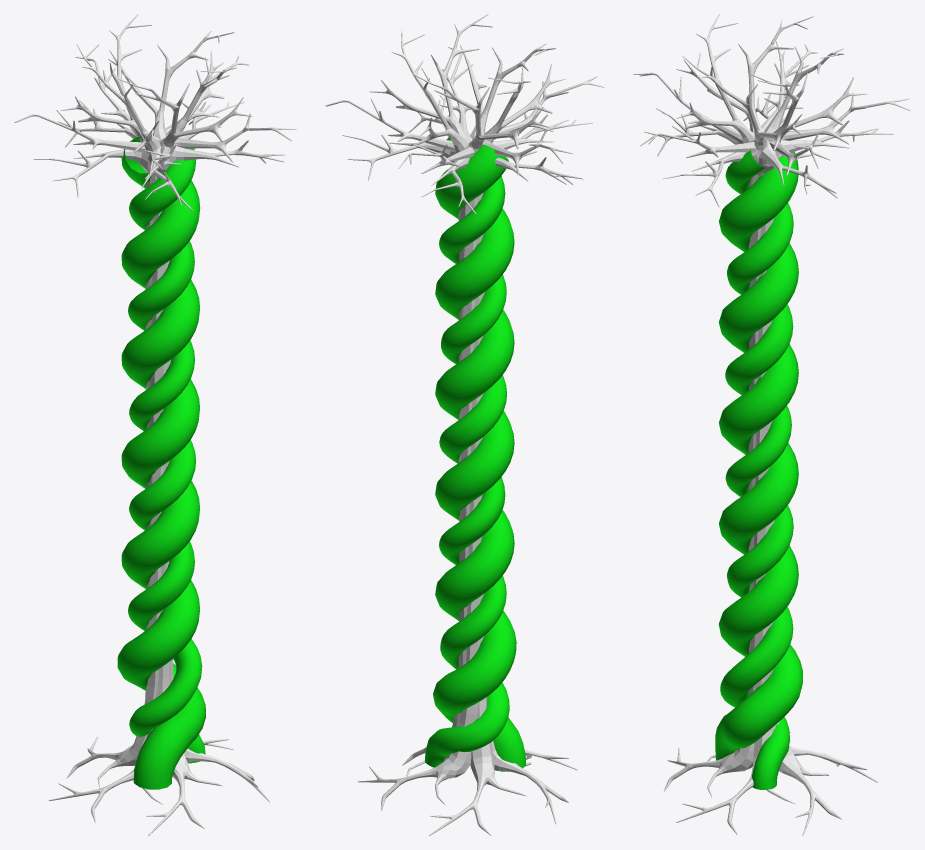
File: Tree_Spiral_3.fbx
3 renders of one model, left to right at view 1: azimuth 30°, elevation 25°; view 2: azimuth 150°, elevation 25°; view 3: azimuth 270°, elevation 25°, orthographic.
Visible parts, largest first — view 1: Spiral.001, Tree_ver2, Spiral; view 2: Spiral.001, Tree_ver2, Spiral; view 3: Spiral.001, Tree_ver2, Spiral.
Part boxes in pixels (x1=…): Spiral.001: x1=117, y1=137, x2=205, y2=789; Tree_ver2: x1=14, y1=14, x2=296, y2=835; Spiral: x1=128, y1=148, x2=205, y2=763; Spiral.001: x1=433, y1=144, x2=525, y2=771; Tree_ver2: x1=325, y1=14, x2=604, y2=835; Spiral: x1=425, y1=137, x2=509, y2=767; Spiral.001: x1=715, y1=152, x2=802, y2=760; Tree_ver2: x1=633, y1=14, x2=910, y2=835; Spiral: x1=720, y1=150, x2=793, y2=789.
Size of the model in its own units: 6526 by 19378 by 6503.
